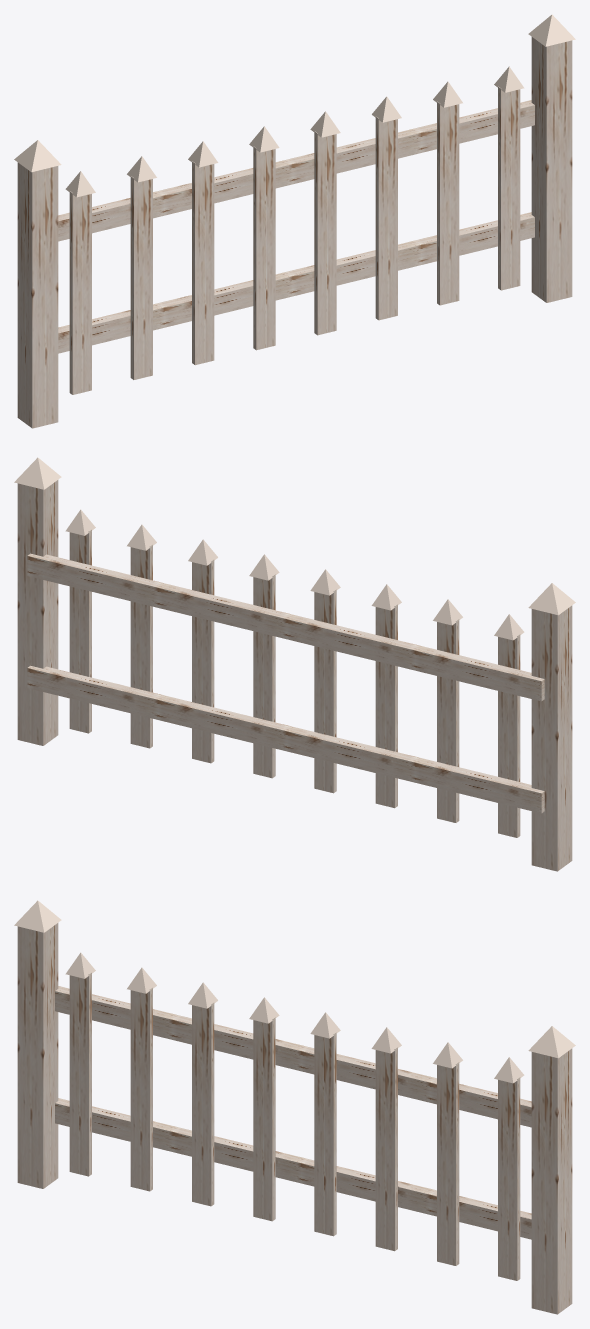
3 renders of one model, top to bottom at view 1: azimuth 30°, elevation 25°; view 2: azimuth 150°, elevation 25°; view 3: azimuth 330°, elevation 25°, orthographic.
Visible parts, largest first — view 1: PicketFence; view 2: PicketFence; view 3: PicketFence.
Part boxes in pixels (left/top/right/bottom): PicketFence: left=14, top=14, right=575, bottom=428; PicketFence: left=14, top=457, right=575, bottom=871; PicketFence: left=14, top=900, right=575, bottom=1314.
Size of the model in its own units: 2.54 by 1.25 by 0.1557.
Materials: 1 (1 with a texture image).
